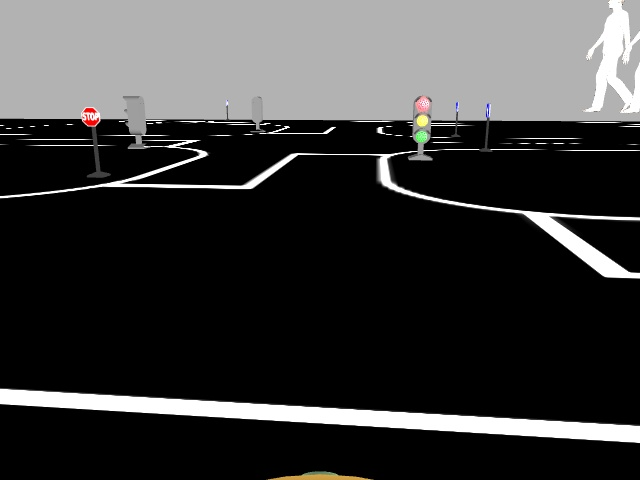Stop: (80, 105, 99, 126)
TrafficLight: (410, 95, 432, 143)
